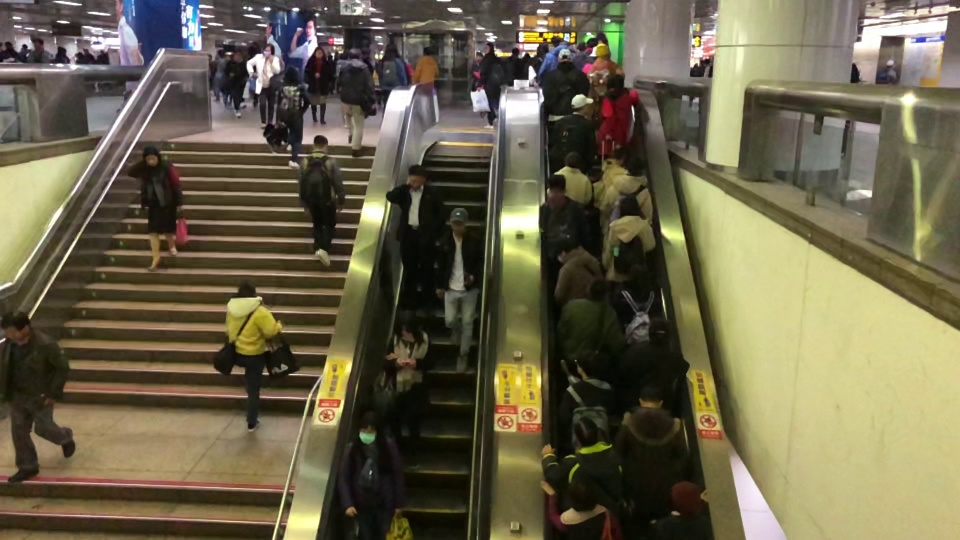person_head: (670, 479, 702, 517), (566, 476, 597, 512), (573, 348, 604, 381), (393, 308, 421, 344), (355, 409, 383, 445), (1, 310, 31, 341), (572, 414, 599, 448), (646, 317, 675, 347), (636, 382, 665, 410), (545, 174, 568, 207), (553, 236, 578, 265), (617, 194, 643, 221), (627, 262, 650, 292), (588, 278, 611, 306), (449, 205, 470, 235), (569, 93, 594, 116), (406, 163, 427, 190), (603, 72, 625, 93), (624, 155, 644, 177), (142, 146, 161, 168), (236, 279, 256, 298), (614, 145, 633, 165), (563, 150, 582, 170), (556, 48, 574, 69), (310, 134, 329, 152), (282, 66, 299, 83), (594, 42, 610, 59), (535, 42, 549, 56), (347, 48, 362, 61), (262, 43, 275, 57), (588, 46, 598, 63), (312, 46, 325, 59), (384, 44, 396, 58), (361, 47, 372, 62), (575, 40, 587, 53), (32, 37, 44, 49), (232, 49, 243, 62), (483, 42, 494, 55), (550, 34, 561, 47), (587, 37, 598, 49), (246, 45, 257, 56), (884, 59, 895, 70), (421, 46, 433, 56), (510, 47, 520, 59), (3, 40, 13, 50), (56, 45, 66, 55), (217, 48, 226, 58), (475, 52, 484, 62), (522, 51, 531, 61), (339, 51, 348, 60), (75, 51, 84, 59), (81, 47, 89, 56), (703, 58, 711, 66), (20, 43, 27, 51), (326, 54, 333, 62), (374, 62, 381, 70), (99, 49, 106, 56), (207, 53, 212, 62), (692, 63, 698, 70), (699, 59, 704, 66)
person_vbox: (0, 310, 76, 484), (612, 382, 691, 540), (383, 162, 448, 328), (223, 279, 283, 433), (337, 409, 407, 540), (432, 205, 485, 376), (382, 307, 435, 472), (614, 316, 690, 417), (540, 414, 624, 505), (125, 145, 184, 270), (555, 278, 625, 381), (555, 348, 624, 451), (537, 174, 590, 302), (297, 134, 346, 268), (538, 476, 625, 540), (601, 194, 656, 284), (335, 48, 378, 157), (547, 93, 599, 177), (598, 155, 653, 233), (646, 479, 713, 540), (614, 262, 663, 344), (595, 72, 639, 158), (274, 66, 310, 171), (553, 236, 604, 302), (541, 48, 590, 115), (245, 43, 281, 130), (546, 150, 593, 206), (302, 46, 333, 125), (586, 42, 625, 102), (378, 44, 408, 116), (597, 145, 634, 203), (532, 34, 569, 87), (221, 49, 248, 118), (478, 42, 499, 129), (412, 46, 440, 83), (524, 42, 549, 81), (213, 48, 231, 102), (697, 58, 712, 114), (26, 37, 55, 64), (571, 40, 594, 72), (506, 47, 524, 86), (470, 51, 484, 91), (335, 51, 348, 93), (580, 46, 599, 74), (0, 40, 22, 62), (688, 63, 699, 107), (371, 61, 381, 105), (50, 45, 71, 64), (207, 53, 217, 92), (361, 47, 374, 77), (882, 59, 897, 84), (326, 54, 335, 95), (520, 51, 531, 80), (18, 43, 31, 62), (81, 47, 95, 64), (74, 51, 91, 64), (849, 63, 860, 83), (95, 49, 108, 65), (697, 59, 705, 77)
